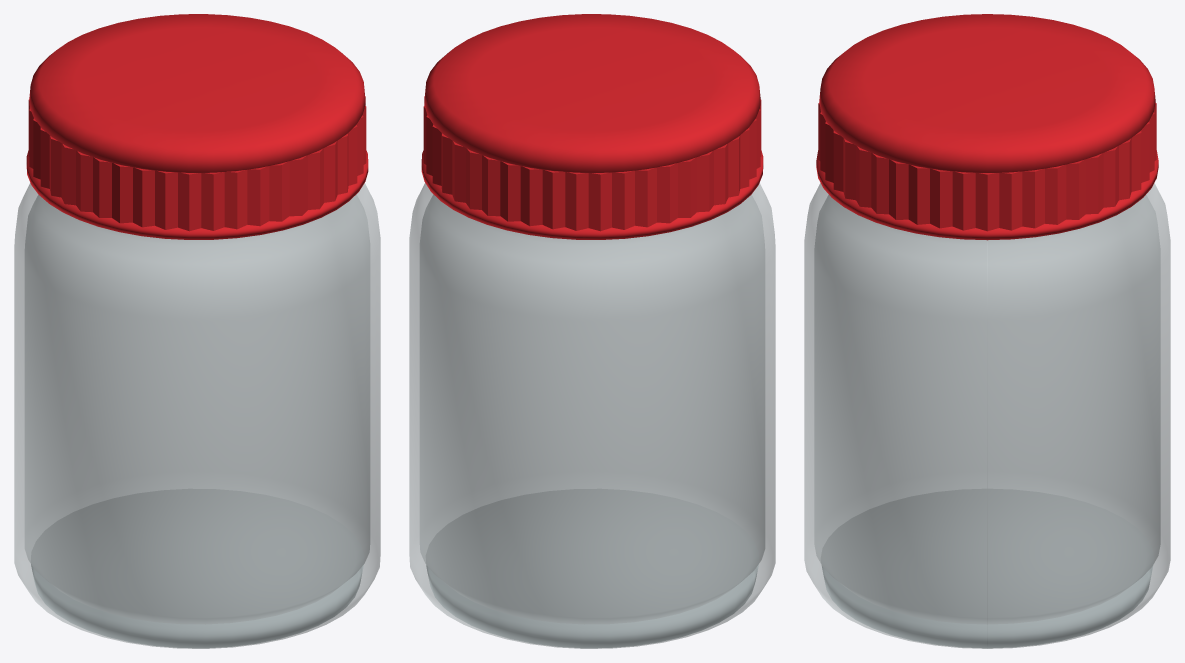
The model's file is item-29.glb.
3 views of the same model, side by side, from view 1: azimuth 30°, elevation 25°; view 2: azimuth 150°, elevation 25°; view 3: azimuth 270°, elevation 25° (orthographic).
Parts seen in each view (by area): view 1: jar, lid_top, base_glass, lid_skirt, lid_lip; view 2: jar, lid_top, base_glass, lid_skirt, lid_lip; view 3: jar, lid_top, base_glass, lid_skirt, lid_lip.
Part boxes in pixels (x1,y1,x2,y2): jar: (14,183,380,648); lid_top: (29,14,365,172); base_glass: (31,489,363,647); lid_skirt: (28,96,366,231); lid_lip: (26,150,368,239); jar: (409,183,775,648); lid_top: (424,14,760,172); base_glass: (426,489,758,647); lid_skirt: (423,96,761,231); lid_lip: (421,150,763,239); jar: (804,183,1170,648); lid_top: (819,14,1155,172); base_glass: (821,489,1153,647); lid_skirt: (818,102,1156,231); lid_lip: (816,150,1158,240).
Bounding box in the file's own units: 0.09 × 0.136 × 0.09.
